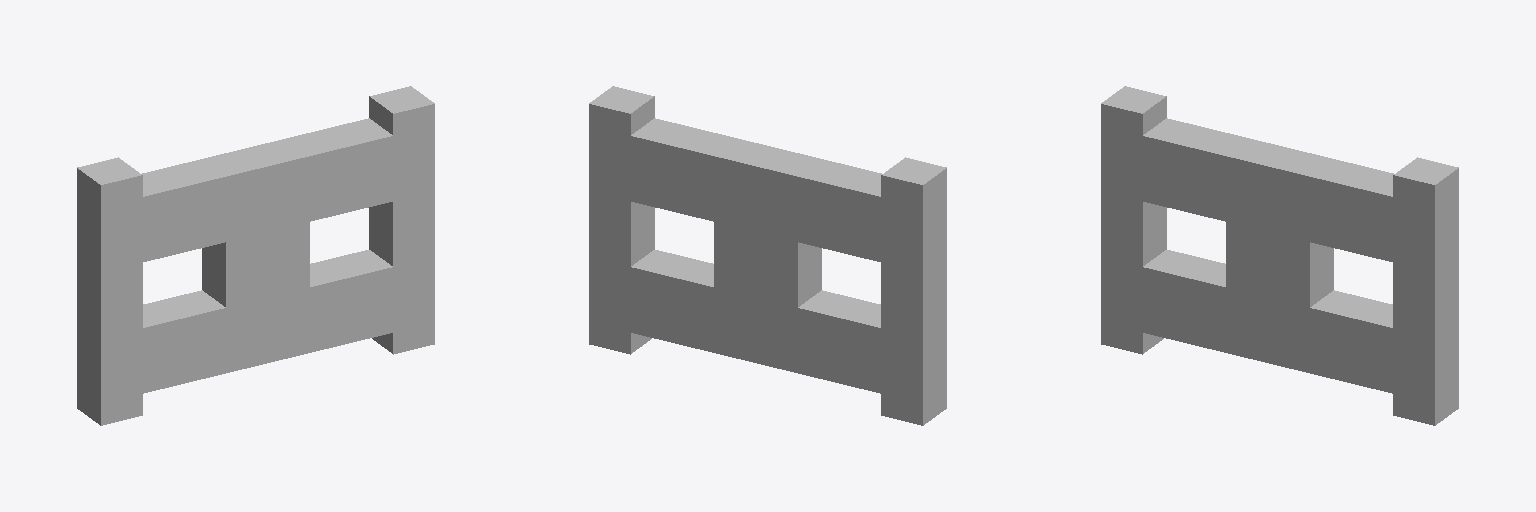
The model's file is fence_gate.obj.
The picture shows the model from 3 angles: view 1: azimuth 30°, elevation 25°; view 2: azimuth 150°, elevation 25°; view 3: azimuth 330°, elevation 25°; orthographic projection.
Parts seen in each view (by area): view 1: Left-hand_post, Right-hand_post, Inner_vertical_post_of_left-hand_gate_door, Inner_vertical_post_of_right-hand_gate_door, Upper_horizontal_bar_of_right-hand_gate_door, Lower_horizontal_bar_of_right-hand_gate_door, Upper_horizontal_bar_of_left-hand_gate_door, Lower_horizontal_bar_of_left-hand_gate_door; view 2: Left-hand_post, Right-hand_post, Inner_vertical_post_of_left-hand_gate_door, Inner_vertical_post_of_right-hand_gate_door, Upper_horizontal_bar_of_right-hand_gate_door, Lower_horizontal_bar_of_right-hand_gate_door, Upper_horizontal_bar_of_left-hand_gate_door, Lower_horizontal_bar_of_left-hand_gate_door; view 3: Right-hand_post, Left-hand_post, Inner_vertical_post_of_right-hand_gate_door, Inner_vertical_post_of_left-hand_gate_door, Upper_horizontal_bar_of_left-hand_gate_door, Lower_horizontal_bar_of_left-hand_gate_door, Upper_horizontal_bar_of_right-hand_gate_door, Lower_horizontal_bar_of_right-hand_gate_door.
Boxes of the visible parts, box(x1,y1,x2,y2) form: Left-hand_post: box(77, 157, 142, 425); Right-hand_post: box(369, 86, 434, 354); Inner_vertical_post_of_left-hand_gate_door: box(202, 149, 267, 372); Inner_vertical_post_of_right-hand_gate_door: box(245, 139, 309, 362); Upper_horizontal_bar_of_right-hand_gate_door: box(286, 118, 392, 221); Lower_horizontal_bar_of_right-hand_gate_door: box(310, 250, 392, 352); Upper_horizontal_bar_of_left-hand_gate_door: box(142, 159, 225, 261); Lower_horizontal_bar_of_left-hand_gate_door: box(143, 290, 225, 393); Left-hand_post: box(881, 157, 946, 425); Right-hand_post: box(589, 86, 654, 354); Inner_vertical_post_of_left-hand_gate_door: box(756, 149, 821, 372); Inner_vertical_post_of_right-hand_gate_door: box(714, 139, 778, 362); Upper_horizontal_bar_of_right-hand_gate_door: box(631, 118, 737, 221); Lower_horizontal_bar_of_right-hand_gate_door: box(631, 250, 713, 352); Upper_horizontal_bar_of_left-hand_gate_door: box(798, 159, 881, 261); Lower_horizontal_bar_of_left-hand_gate_door: box(798, 290, 880, 393); Right-hand_post: box(1393, 157, 1458, 425); Left-hand_post: box(1101, 86, 1166, 354); Inner_vertical_post_of_right-hand_gate_door: box(1268, 149, 1333, 372); Inner_vertical_post_of_left-hand_gate_door: box(1226, 139, 1290, 362); Upper_horizontal_bar_of_left-hand_gate_door: box(1143, 118, 1249, 221); Lower_horizontal_bar_of_left-hand_gate_door: box(1143, 250, 1225, 352); Upper_horizontal_bar_of_right-hand_gate_door: box(1310, 159, 1393, 261); Lower_horizontal_bar_of_right-hand_gate_door: box(1310, 290, 1392, 393).
Bounding box in the file's own units: 1 × 0.6875 × 0.125.